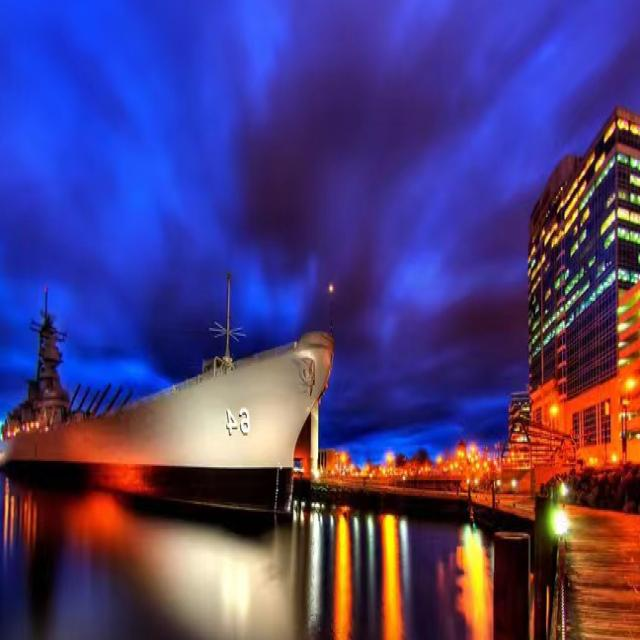navalvessels: (0, 292, 347, 508)
